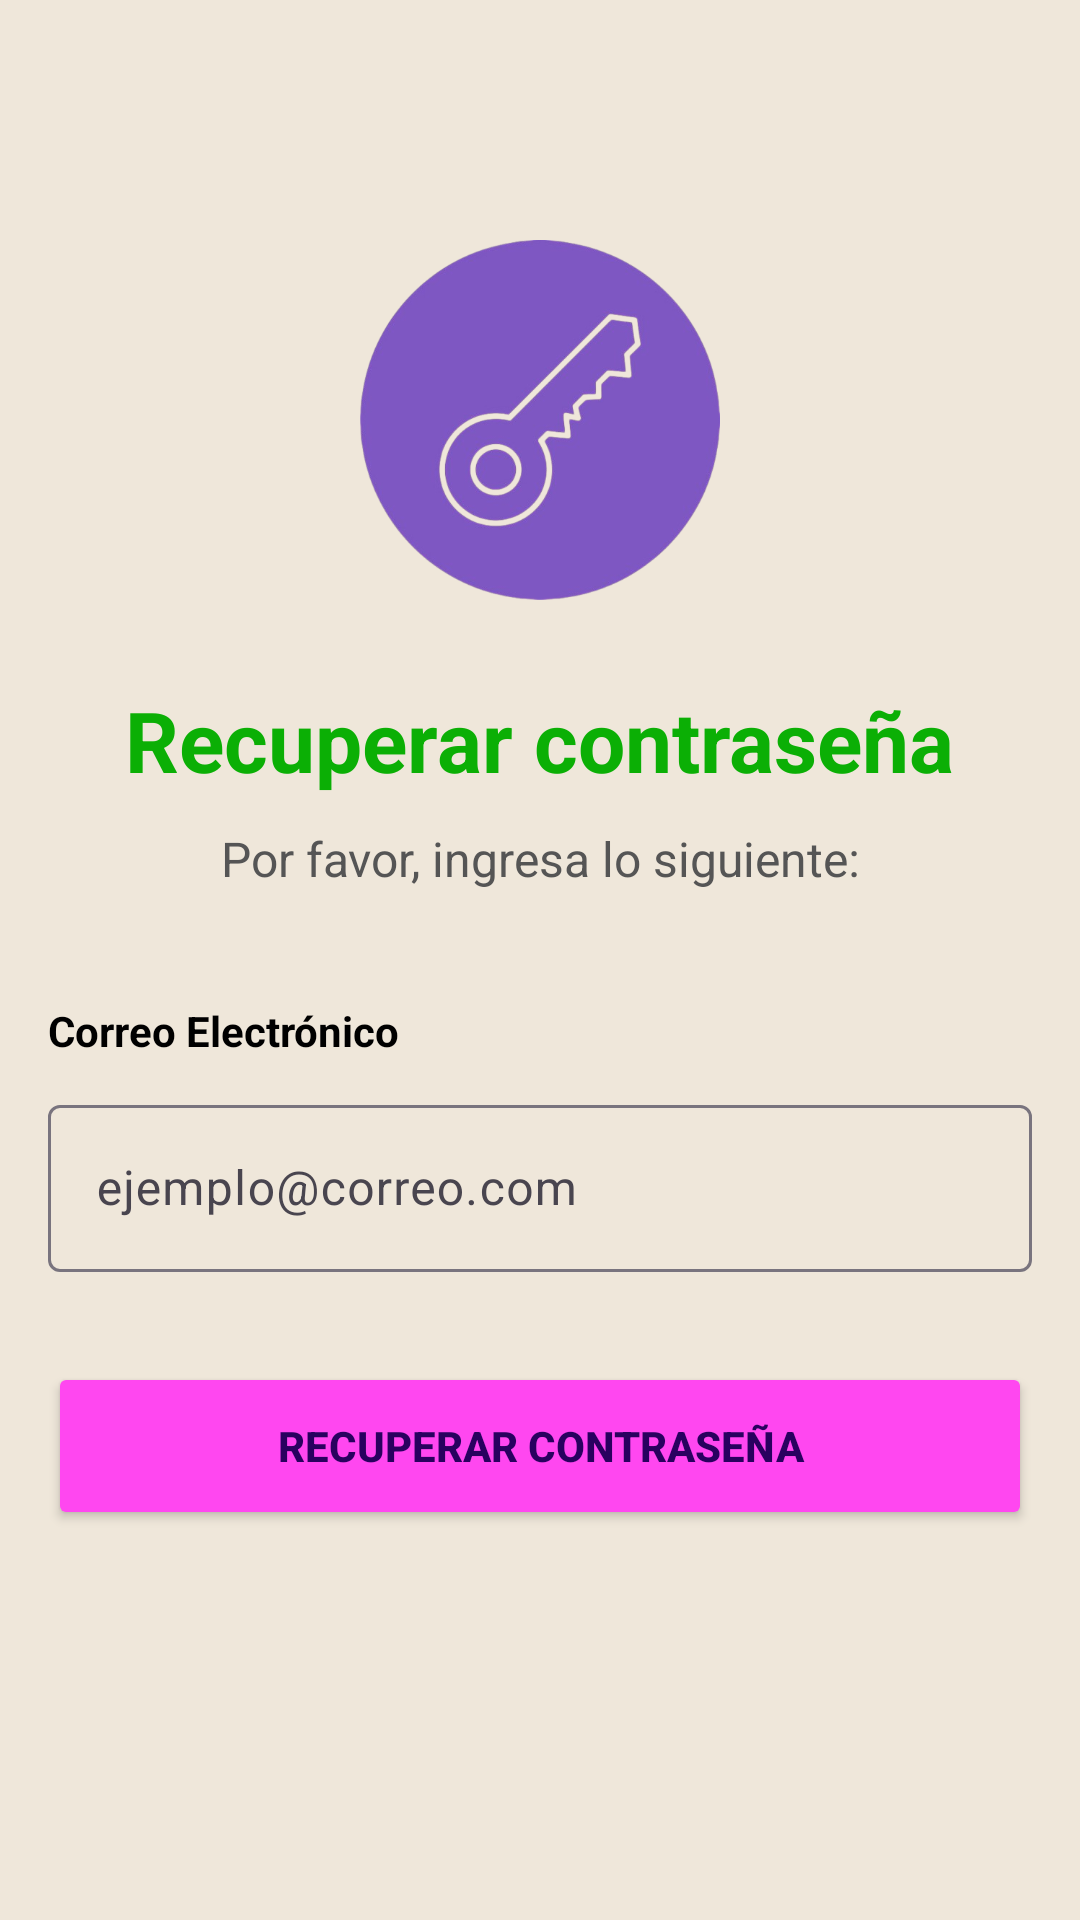

Point at icon controls on the screen. Image size 1080×1920, points as [x,y].
keyicon: [540,420]
